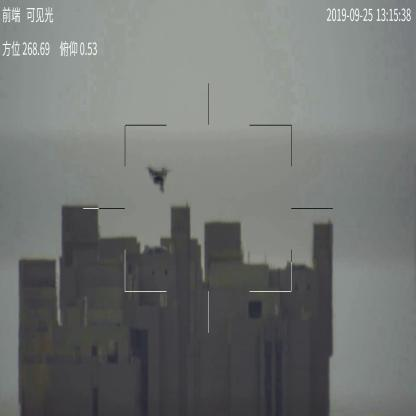uav: (149, 163, 173, 192)
